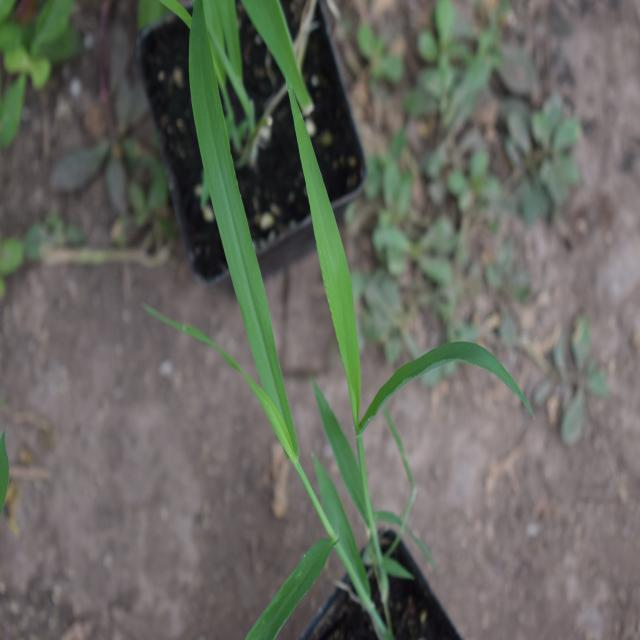crabgrass: (177, 37, 443, 604)
